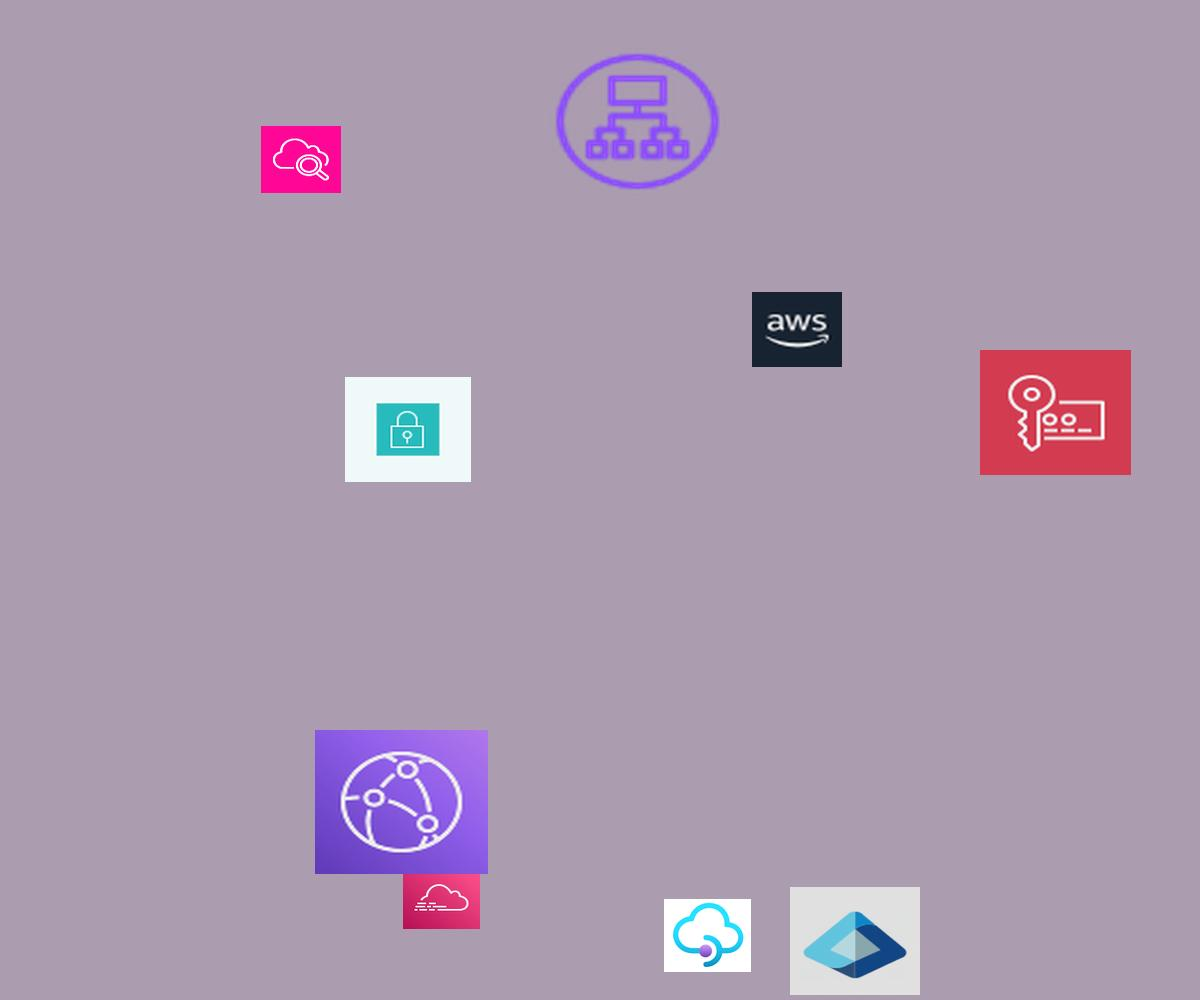AWS-Cloud-logo: (752, 292, 842, 367)
AWS-CloudFront: (315, 730, 488, 874)
AWS-CloudTrail: (403, 865, 480, 929)
AWS-CloudWatch: (261, 126, 341, 193)
AWS-Key-Management-Service: (980, 350, 1131, 475)
AWS-Private-subnet: (345, 377, 471, 482)
AWS-Res_Elastic-Load-Balancing_Application-Load-Balancer: (549, 48, 726, 195)
Azure_api_gateway: (664, 899, 751, 972)
Azure_microsoft_entra: (790, 887, 920, 995)
